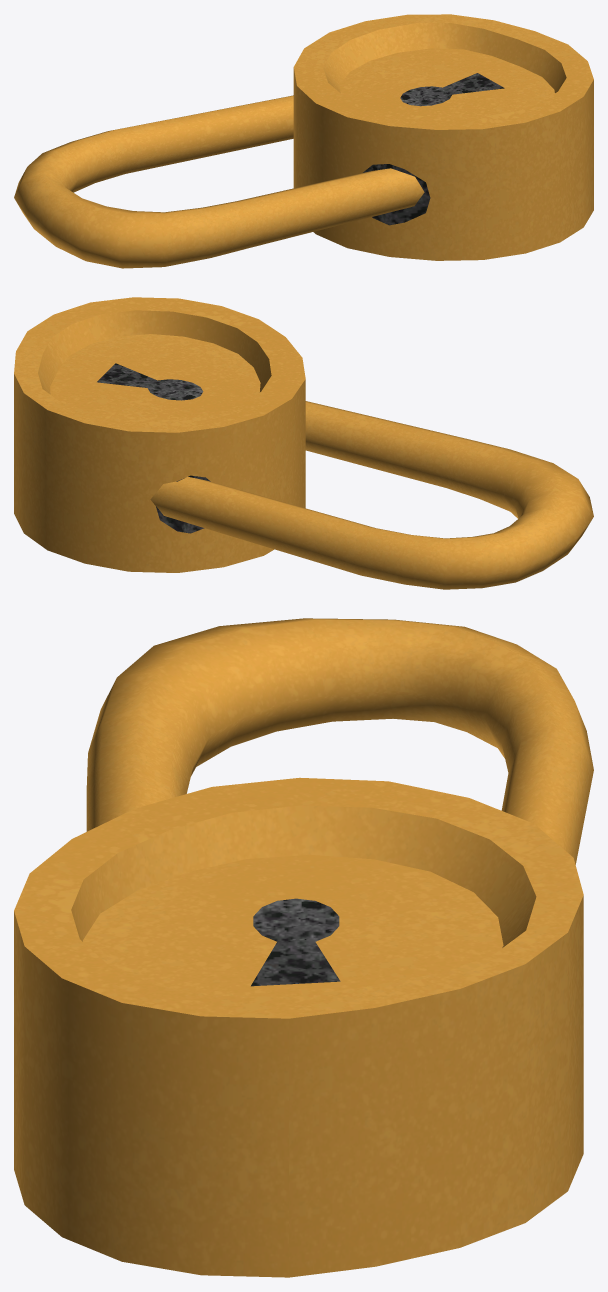
3 views of the same model, one above another, from view 1: azimuth 30°, elevation 25°; view 2: azimuth 150°, elevation 25°; view 3: azimuth 270°, elevation 25° (orthographic). The views are drawn at different scales.
Visible parts, largest first — view 1: lock_yellow_emission_0_7, lock_2_part_yellow_emission_0_11, lock_plasticBlack_mat_0_8; view 2: lock_yellow_emission_0_7, lock_2_part_yellow_emission_0_11, lock_plasticBlack_mat_0_8; view 3: lock_yellow_emission_0_7, lock_2_part_yellow_emission_0_11, lock_plasticBlack_mat_0_8.
Boxes of the visible parts, box(x1,y1,x2,y2) form: lock_yellow_emission_0_7: box(293, 14, 593, 260); lock_2_part_yellow_emission_0_11: box(14, 95, 424, 268); lock_plasticBlack_mat_0_8: box(363, 73, 504, 225); lock_yellow_emission_0_7: box(14, 297, 305, 572); lock_2_part_yellow_emission_0_11: box(150, 401, 593, 589); lock_plasticBlack_mat_0_8: box(97, 363, 210, 533); lock_yellow_emission_0_7: box(14, 777, 583, 1277); lock_2_part_yellow_emission_0_11: box(86, 618, 593, 864); lock_plasticBlack_mat_0_8: box(251, 898, 340, 986).
Size of the model in its own units: 0.3216 by 0.0779 by 0.158.
2 materials, 2 textured.
